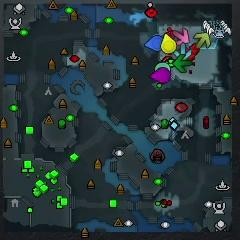p1: (145, 35, 164, 52)
p2: (154, 63, 172, 73)
p3: (150, 68, 172, 84)
p4: (161, 33, 176, 54)
x1: (173, 28, 190, 45)
x2: (195, 32, 211, 49)
x3: (174, 42, 192, 60)
x4: (174, 55, 193, 73)
